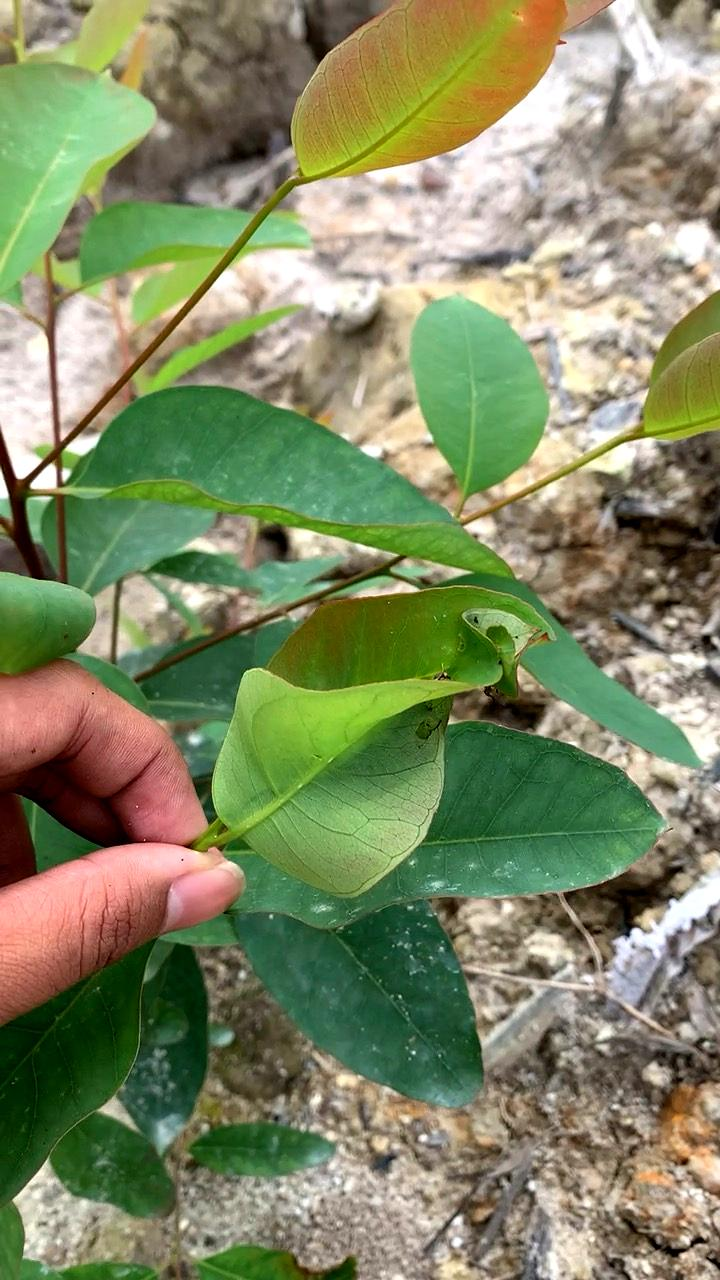Leaf Roller - Leaf: (206, 568, 561, 904)
